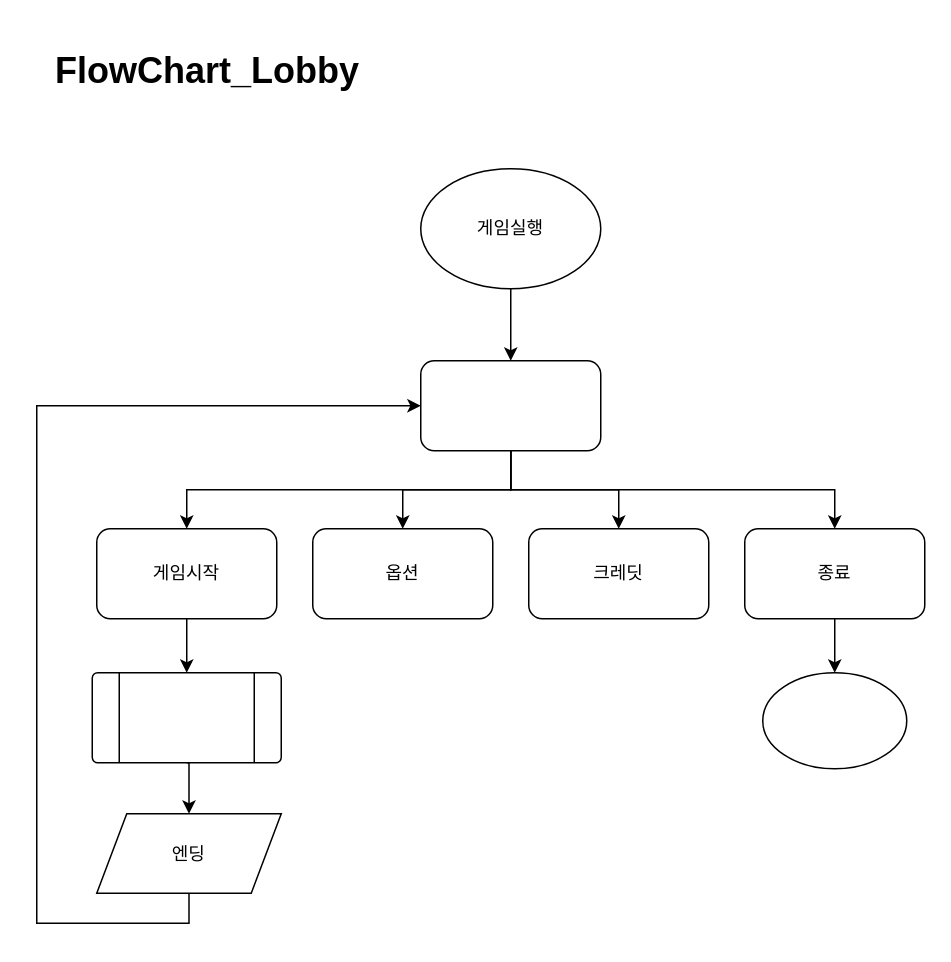
The diagram is 951 pixels wide and 962 high, and some of its shapes have lost their labels. Each missing label, with the centre of its shape:
Level1 시작: (x=186, y=717)
게임종료: (x=834, y=720)
로비화면: (x=510, y=405)
